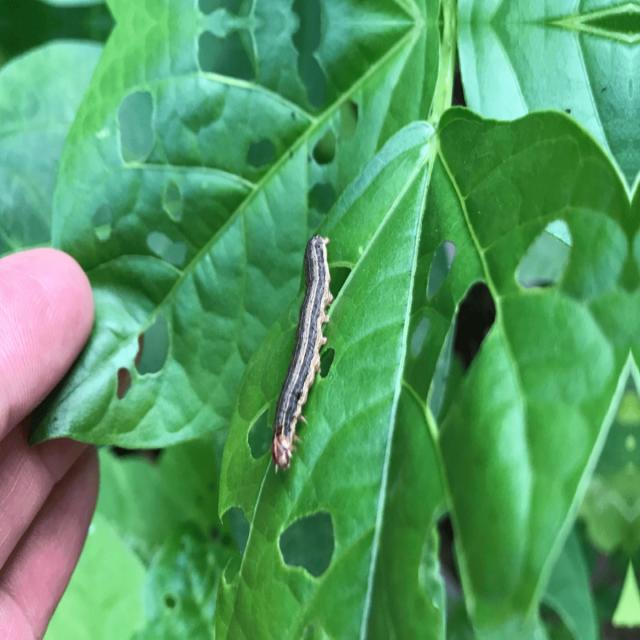armyworm: (270, 232, 334, 473)
